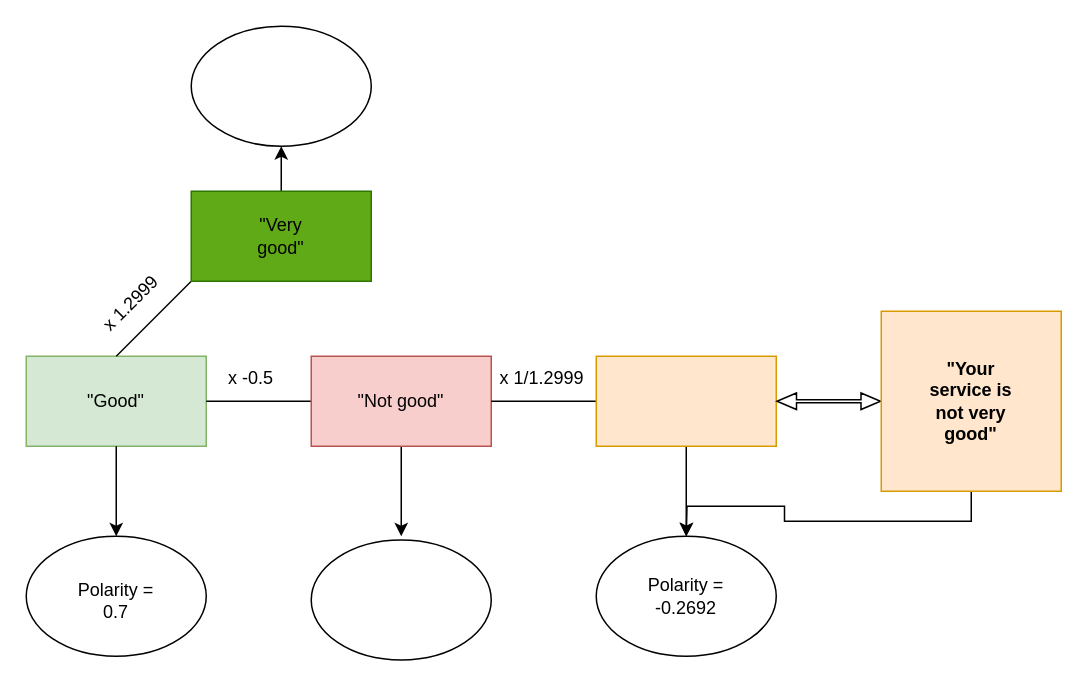
Some shapes in this 1088 by 687 pixel diagram are drawn without their labels. The shapes that lost their labels are listed below. From the top down, each one's box as (x1, y1, x2, y2) in pixels, then its label:
(190, 25, 371, 146): Polarity = 0.9099
(595, 355, 776, 446): "Not very good"
(310, 538, 491, 660): Polarity = -0.35
